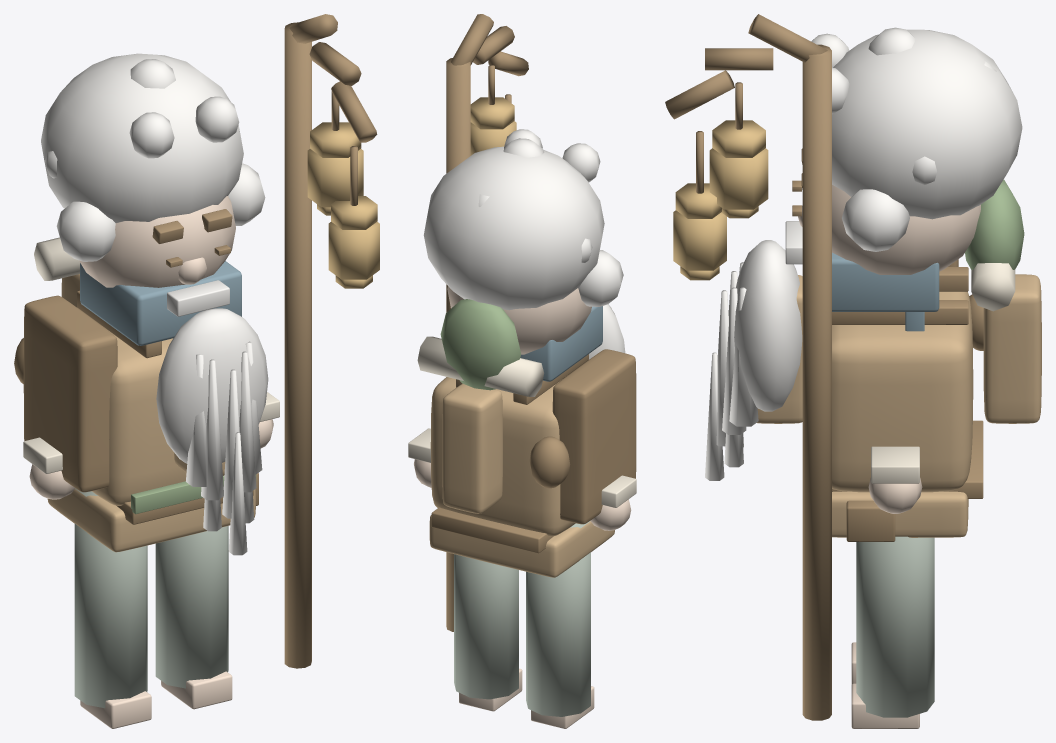
Rendered from npc_eldra_v4.glb.
The picture shows the model from 3 angles, left to right: view 1: azimuth 30°, elevation 25°; view 2: azimuth 150°, elevation 25°; view 3: azimuth 270°, elevation 25°; orthographic projection. The views are drawn at different scales.
Visible parts, largest first — view 1: Hair_Dome, Staff_Pole, Backpack, Trousers_L, Trousers_R, Beard_Mass, Vest_Body, Head_Mesh, Scarf_Front, Vest_Skirt, Hair_Wisp_L, Lantern_2_Body (+26 smaller); view 2: Hair_Dome, Backpack, Trousers_L, Trousers_R, Vest_Body, Sleeve_R, Backpack_Herb, Vest_Skirt, Staff_Pole, Head_Mesh, Bedroll, Belt (+18 smaller); view 3: Hair_Dome, Vest_Body, Staff_Pole, Trousers_R, Beard_Mass, Sleeve_R, Head_Mesh, Scarf_Front, Vest_Skirt, Backpack_Herb, Hair_Wisp_R, Lantern_1_Body (+23 smaller).
Part boxes in pixels (left/top/right/bottom): Hair_Dome: left=41, top=53, right=243, bottom=222; Staff_Pole: left=284, top=22, right=311, bottom=668; Backpack: left=23, top=295, right=117, bottom=492; Trousers_L: left=74, top=488, right=147, bottom=708; Trousers_R: left=155, top=526, right=228, bottom=688; Beard_Mass: left=156, top=308, right=268, bottom=463; Vest_Body: left=92, top=331, right=186, bottom=505; Head_Mesh: left=79, top=196, right=235, bottom=287; Scarf_Front: left=80, top=261, right=241, bottom=345; Vest_Skirt: left=47, top=489, right=255, bottom=552; Hair_Wisp_L: left=56, top=201, right=115, bottom=261; Lantern_2_Body: left=328, top=221, right=379, bottom=279; Hair_Dome: left=423, top=146, right=604, bottom=310; Backpack: left=552, top=349, right=636, bottom=524; Trousers_L: left=526, top=521, right=590, bottom=716; Trousers_R: left=454, top=554, right=518, bottom=699; Vest_Body: left=430, top=377, right=575, bottom=536; Sleeve_R: left=442, top=383, right=502, bottom=513; Backpack_Herb: left=440, top=299, right=520, bottom=390; Vest_Skirt: left=429, top=515, right=614, bottom=577; Staff_Pole: left=446, top=58, right=470, bottom=631; Head_Mesh: left=447, top=286, right=591, bottom=354; Bedroll: left=417, top=336, right=544, bottom=396; Belt: left=431, top=507, right=553, bottom=553; Hair_Dome: left=832, top=29, right=1022, bottom=219; Vest_Body: left=832, top=291, right=973, bottom=492; Staff_Pole: left=802, top=44, right=831, bottom=720; Trousers_R: left=856, top=536, right=934, bottom=717; Beard_Mass: left=734, top=240, right=802, bottom=411; Sleeve_R: left=983, top=274, right=1041, bottom=423; Head_Mesh: left=832, top=185, right=980, bottom=274; Scarf_Front: left=832, top=252, right=939, bottom=311; Vest_Skirt: left=832, top=491, right=968, bottom=537; Backpack_Herb: left=965, top=179, right=1024, bottom=269; Hair_Wisp_R: left=842, top=189, right=909, bottom=251; Lantern_1_Body: left=709, top=148, right=768, bottom=209.
Size of the model in its own units: 0.6143 by 1.67 by 0.7714.
